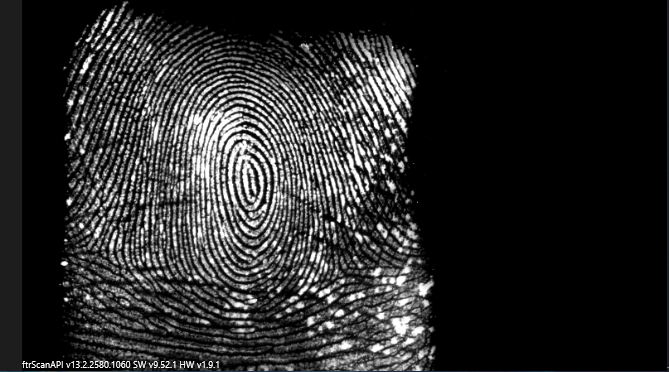deltas: (78, 214, 134, 277), (315, 245, 364, 296)
nucleo: (228, 146, 269, 210)
